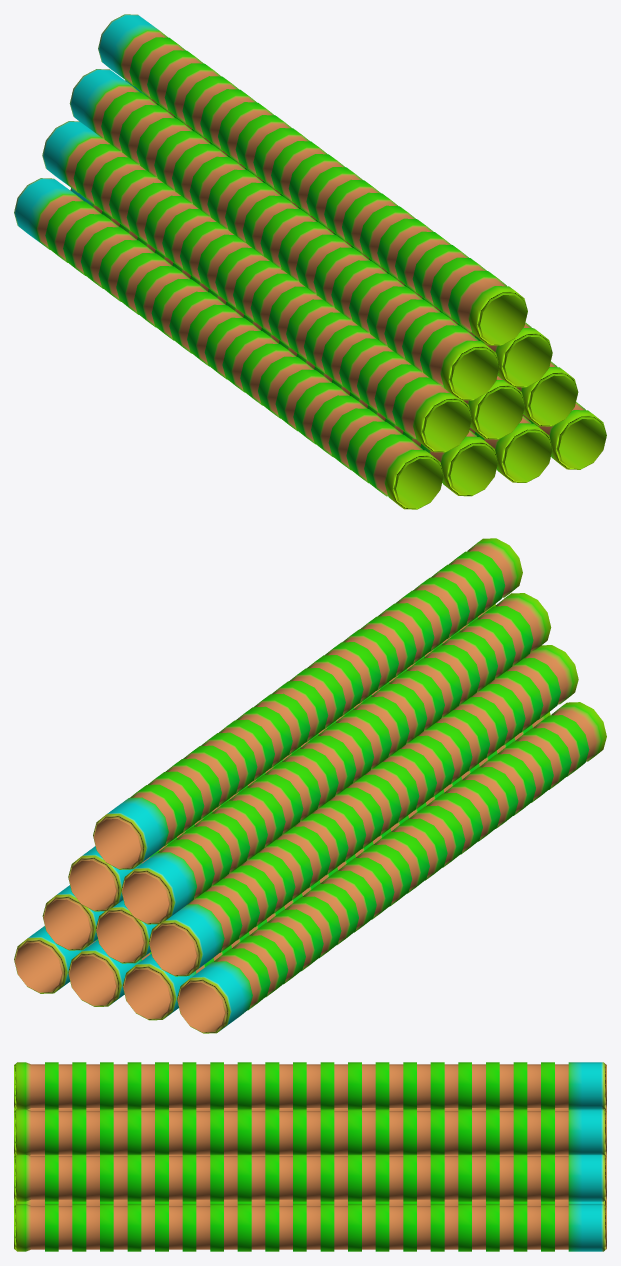
The model's file is Pipe_2.fbx.
3 renders of one model, top to bottom at view 1: azimuth 30°, elevation 25°; view 2: azimuth 150°, elevation 25°; view 3: azimuth 270°, elevation 25°, orthographic. The views are drawn at different scales.
Visible parts, largest first — view 1: Pipe_2; view 2: Pipe_2; view 3: Pipe_2.
Part boxes in pixels (x1,y1,x2,y2): Pipe_2: [14, 14, 606, 509]; Pipe_2: [14, 538, 606, 1033]; Pipe_2: [14, 1062, 606, 1251].
Bounding box in the file's own units: 270 × 238 × 824.
